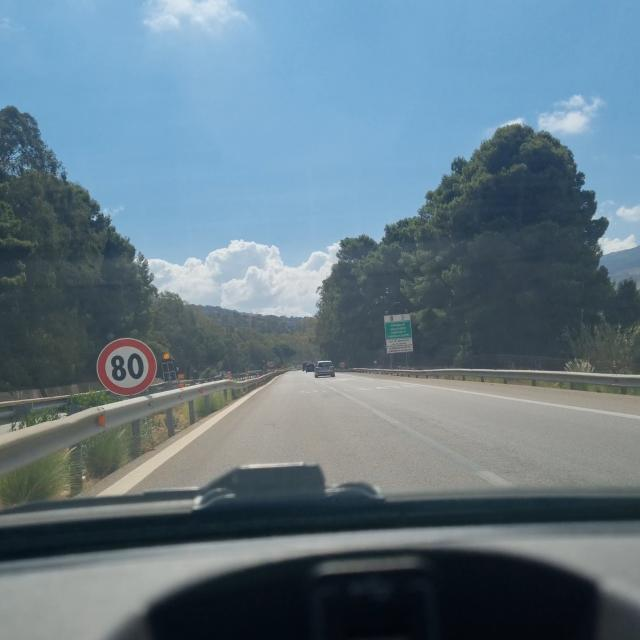forb_speed_over_80: (96, 336, 158, 396)
